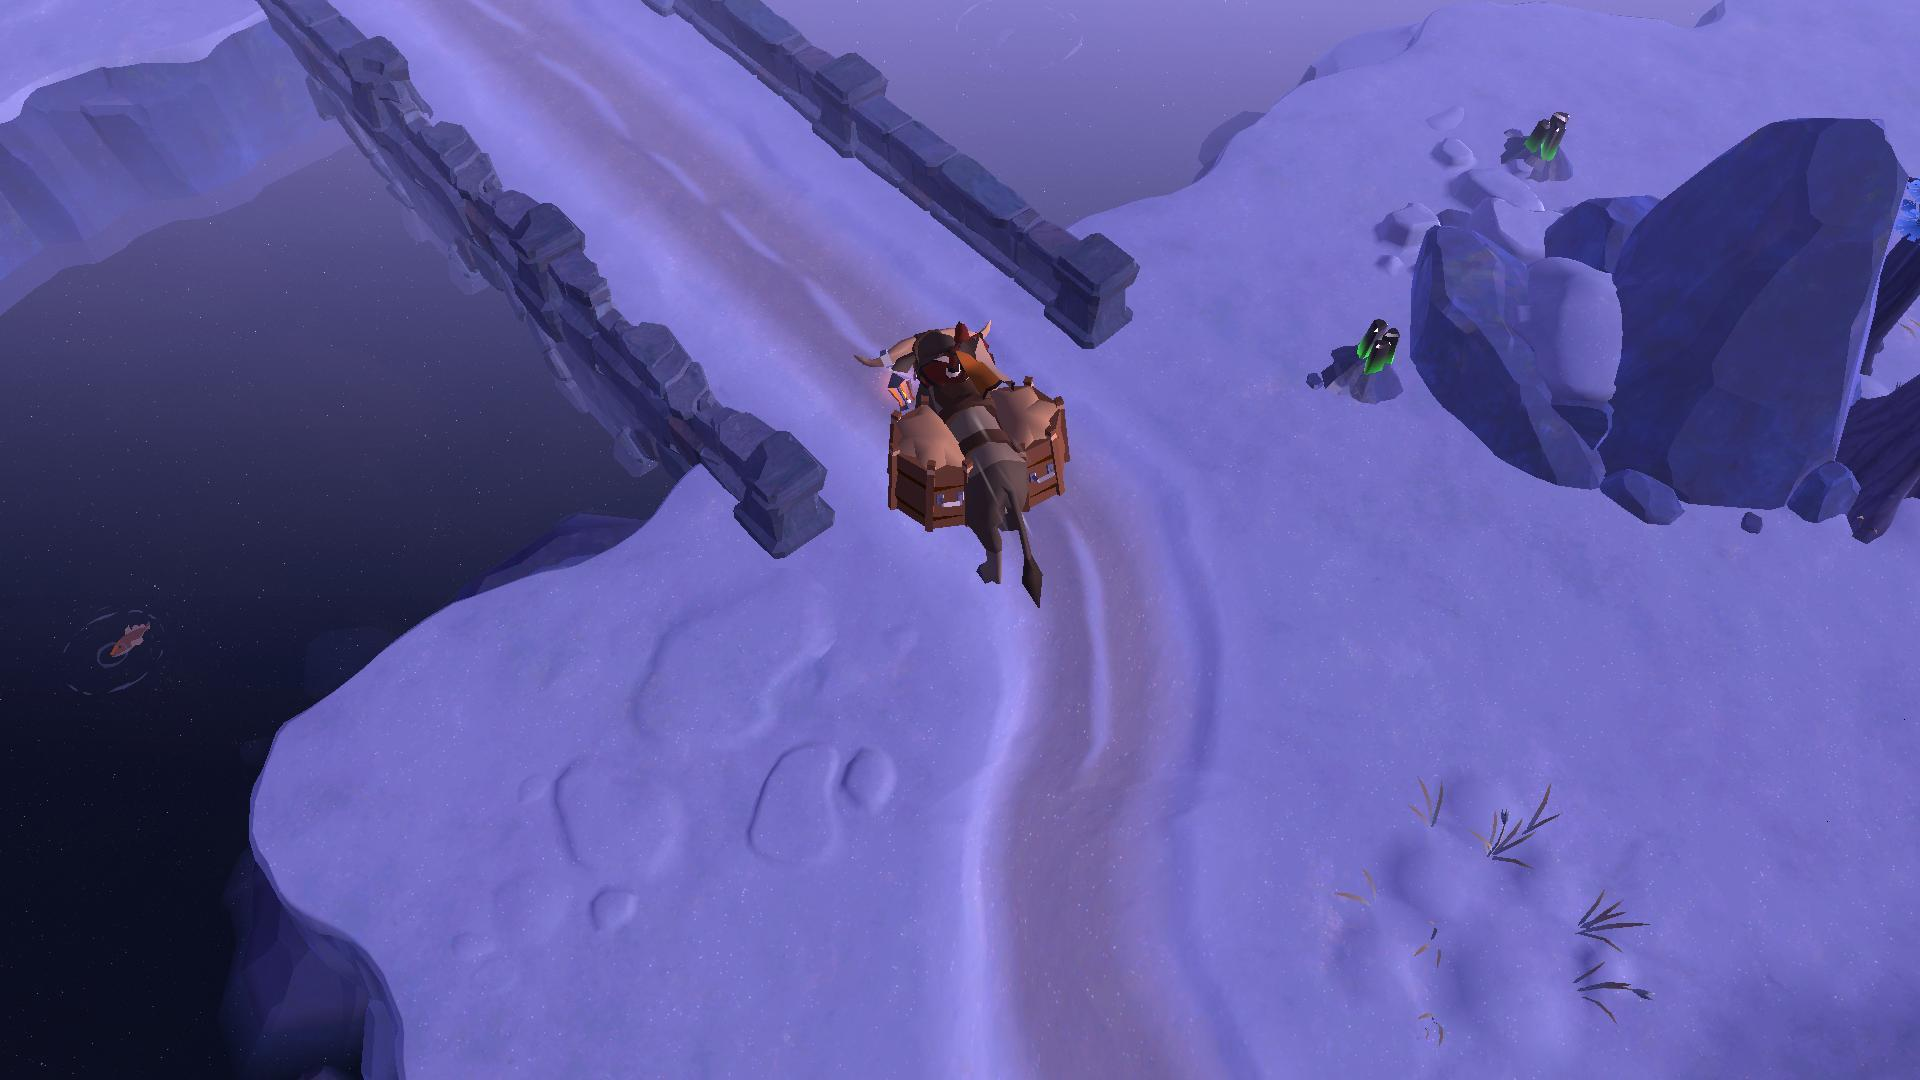ore_t3: (1522, 100, 1571, 161), (1360, 313, 1398, 375)
